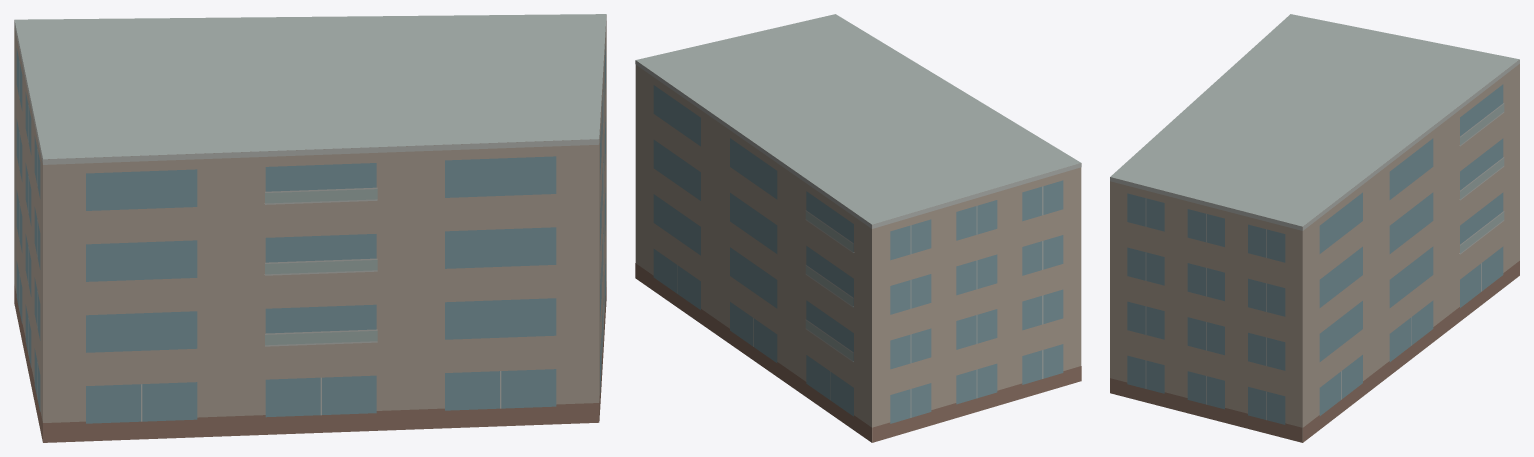
The model's file is residential-574e3eac-ac45-4627-becb-9e2c2df2f75b.glb.
3 views of the same model, side by side, from view 1: azimuth 30°, elevation 25°; view 2: azimuth 150°, elevation 25°; view 3: azimuth 270°, elevation 25° (orthographic). The views are drawn at different scales.
Visible parts, largest first — view 1: residential-574e3eac-ac45-4627-becb-9e2c2df2f75b.tmp; view 2: residential-574e3eac-ac45-4627-becb-9e2c2df2f75b.tmp; view 3: residential-574e3eac-ac45-4627-becb-9e2c2df2f75b.tmp.
Boxes of the visible parts, x1,y1,x2,y2 form: residential-574e3eac-ac45-4627-becb-9e2c2df2f75b.tmp: (14, 14, 606, 442); residential-574e3eac-ac45-4627-becb-9e2c2df2f75b.tmp: (635, 14, 1081, 442); residential-574e3eac-ac45-4627-becb-9e2c2df2f75b.tmp: (1110, 14, 1519, 442).
Bounding box in the file's own units: 25.74 × 12.2 × 20.96.
